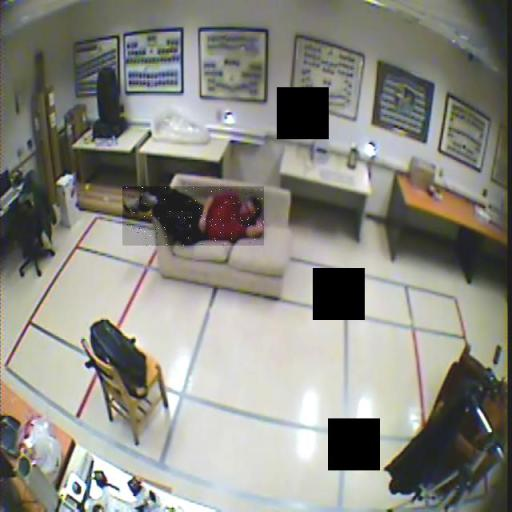Fall: (122, 187, 264, 246)
